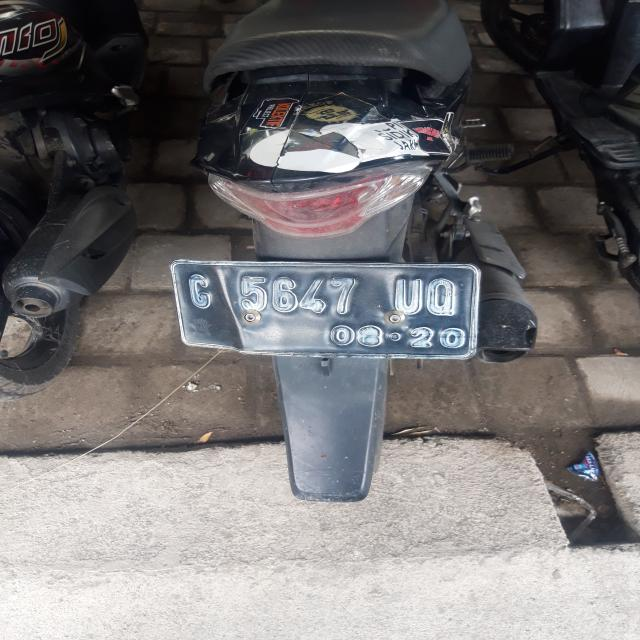plate: (170, 257, 476, 362)
